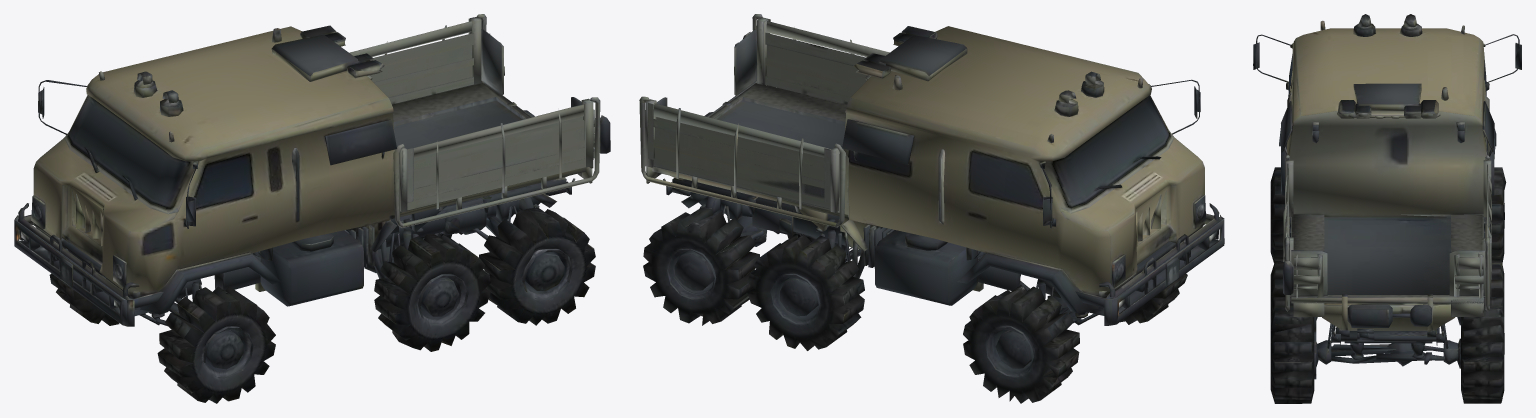
The model's file is v_flatbed.glb.
The picture shows the model from 3 angles, left to right: view 1: azimuth 30°, elevation 25°; view 2: azimuth 150°, elevation 25°; view 3: azimuth 270°, elevation 25°; orthographic projection. The views are drawn at different scales.
Size of the model in its own units: 0.9487 by 0.5151 by 0.5117.
1 material, 1 textured.
